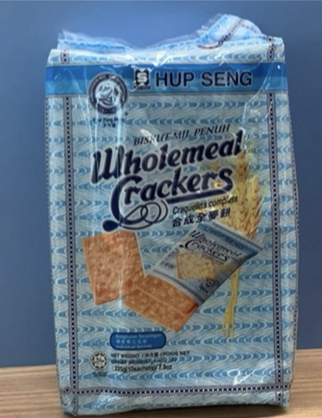crackers_150g: (78, 70, 278, 383)
